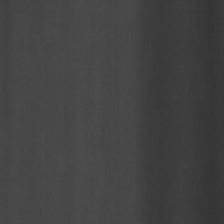inclusion: (78, 97, 84, 112)
